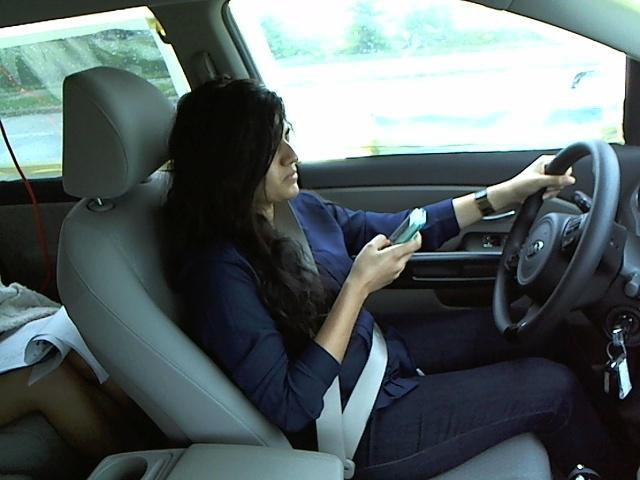PhoneUse: (371, 205, 432, 267)
